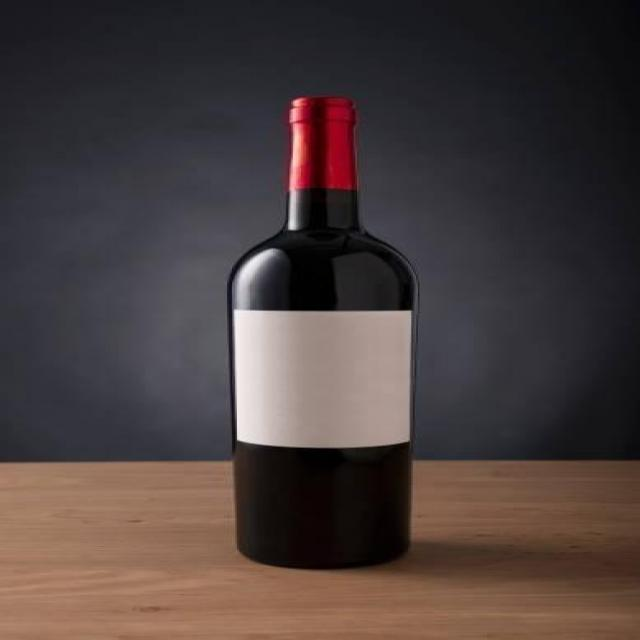bottle-glass: (219, 92, 428, 573)
